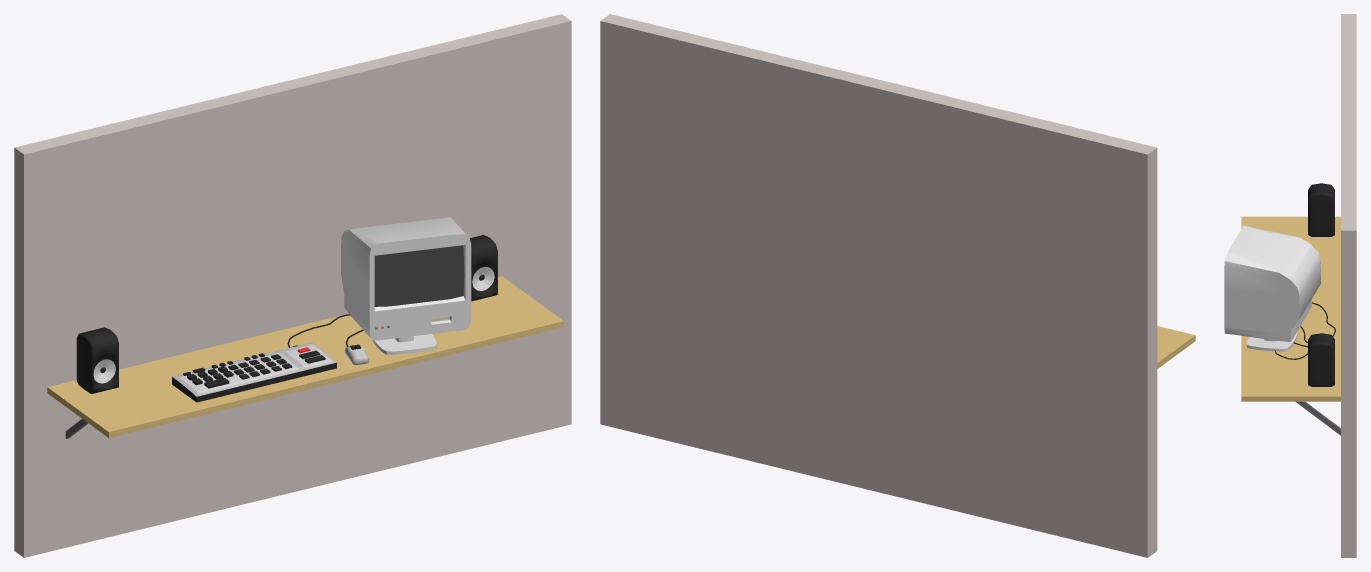
File: Wall_Desk_Speakers_1341.gltf
The picture shows the model from 3 angles, left to right: view 1: azimuth 30°, elevation 25°; view 2: azimuth 150°, elevation 25°; view 3: azimuth 270°, elevation 25°; orthographic projection. The views are drawn at different scales.
Parts seen in each view (by area): view 1: node-0; view 2: node-0; view 3: node-0.
Boxes of the visible parts, x1=… form: node-0: x1=14, y1=14, x2=571, y2=557; node-0: x1=600, y1=14, x2=1195, y2=557; node-0: x1=1224, y1=14, x2=1356, y2=557.
Size of the model in its own units: 86.75 by 61.09 by 22.36.
